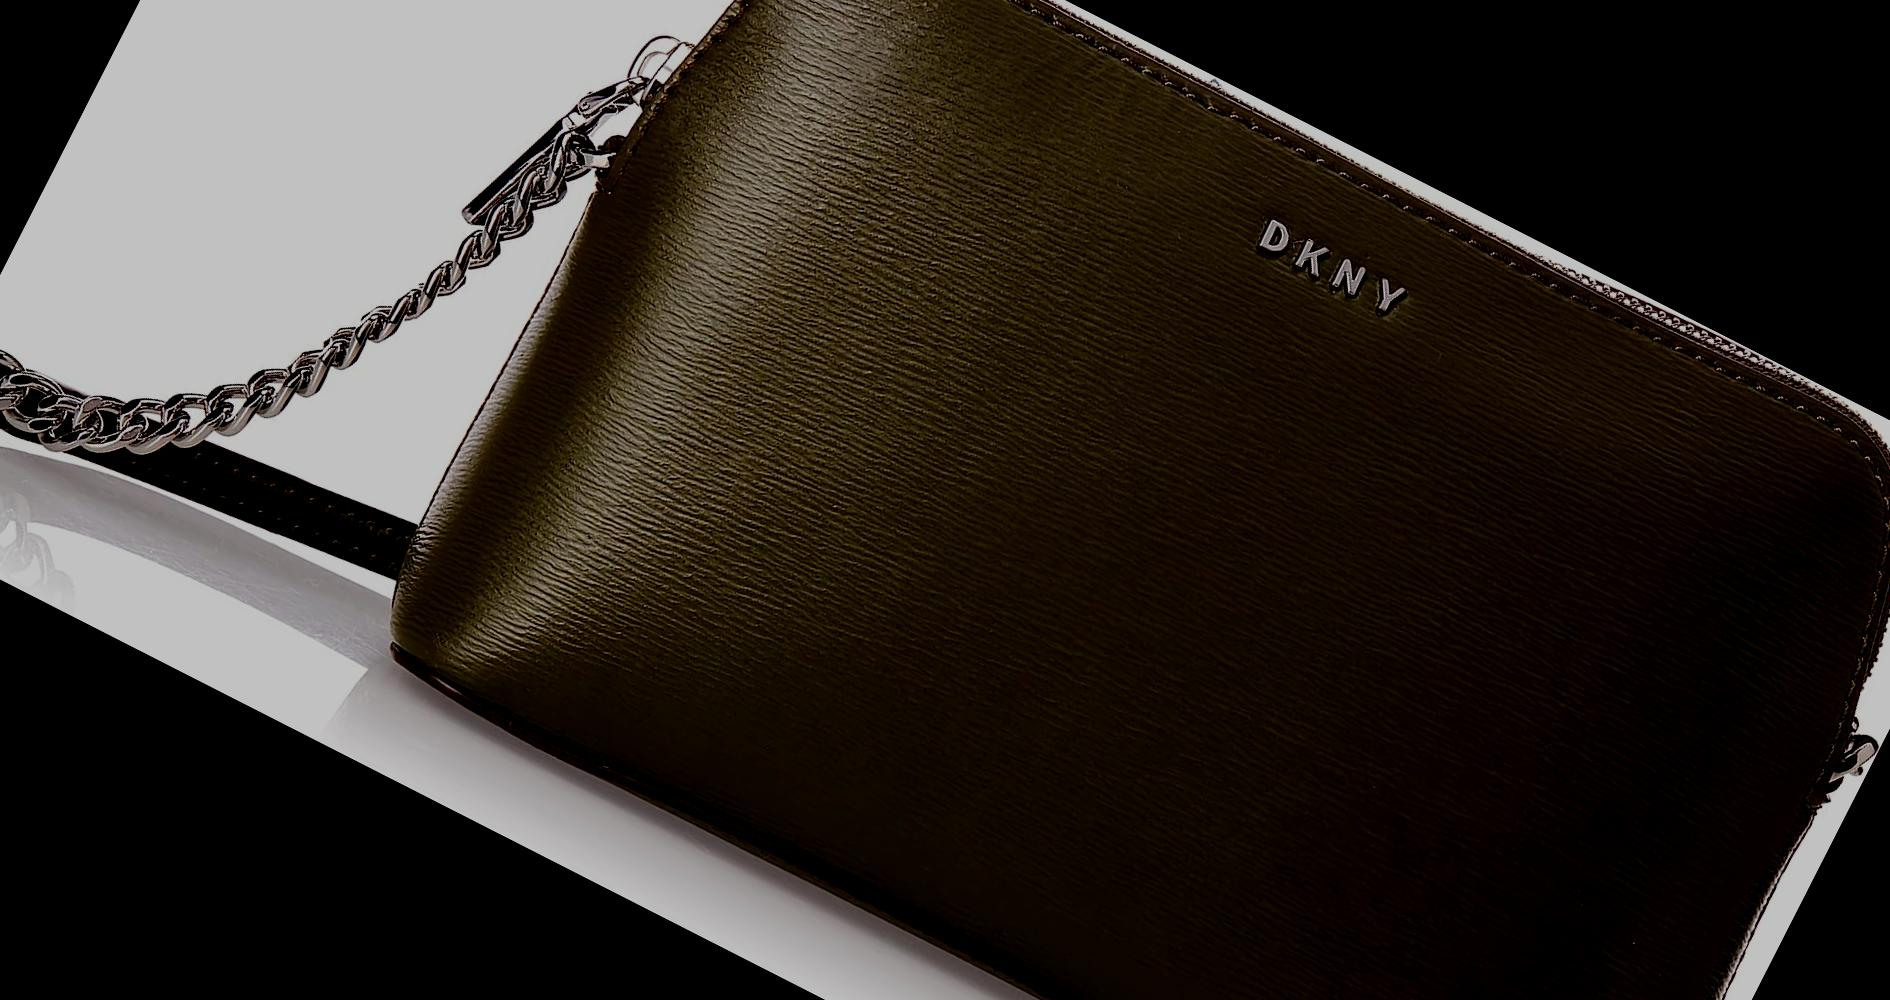DKNY: (1255, 217, 1409, 317)
